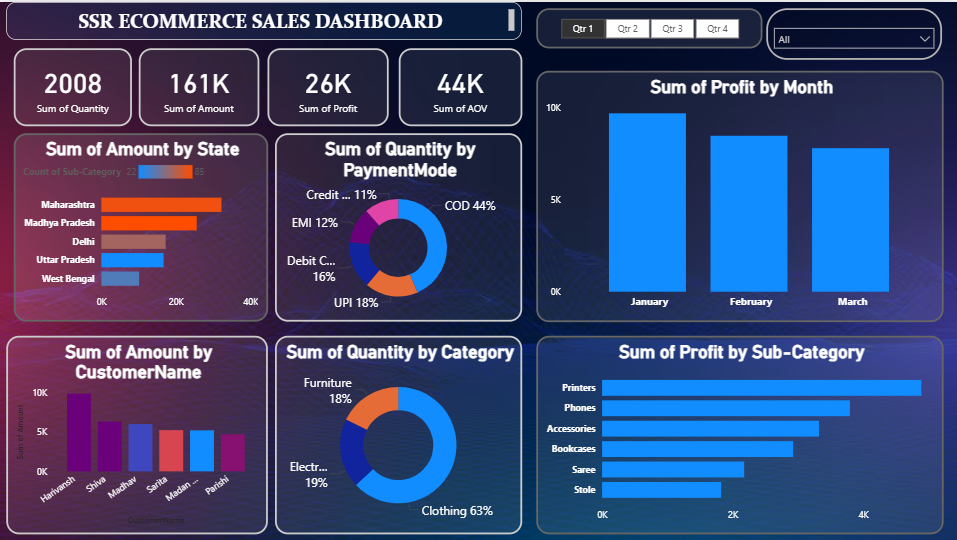

The page's visual inventory and layout, read from the dashboard file:
{"tool":"powerbi","page":{"name":"Page 1","canvas":[1280,720],"ordinal":0},"visuals":[{"type":"textbox","box":[8.2,0,687.5,50.8],"z":0},{"type":"columnChart","fields":{"Y":["Details.Profit"],"Category":["Orders.Order Date.Variation.Date Hierarchy.Month"]},"box":[714.9,91.9,543.4,334.8],"z":1000},{"type":"barChart","fields":{"Category":["Details.Sub-Category"],"Y":["Details.Profit"]},"box":[714.9,444.6,543.4,264.8],"z":2000},{"type":"donutChart","fields":{"Category":["Details.Category"],"Y":["Details.Quantity"]},"box":[366.4,444.6,329.3,264.8],"z":3000},{"type":"donutChart","fields":{"Y":["Details.Quantity"],"Category":["Details.PaymentMode"]},"box":[366.4,175.6,329.3,251.1],"z":4000},{"type":"card","fields":{"Values":["Details.Amount"]},"box":[185.2,61.7,160.5,104.3],"z":5000},{"type":"card","fields":{"Values":["Details.Profit"]},"box":[356.8,61.7,161.9,104.3],"z":6000},{"type":"card","fields":{"Values":["Details.Quantity"]},"box":[17.8,61.7,157.8,104.3],"z":7000},{"type":"card","fields":{"Values":["Details.AOV"]},"box":[531,61.7,164.7,104.3],"z":8000},{"type":"barChart","fields":{"Y":["Details.Amount"],"Category":["Orders.State"]},"box":[17.8,175.6,338.9,251.1],"z":9000},{"type":"columnChart","fields":{"Category":["Orders.CustomerName"],"Y":["Details.Amount"]},"box":[8.2,444.6,348.5,264.8],"z":10000},{"type":"slicer","fields":{"Values":["Orders.Order Date.Variation.Date Hierarchy.Quarter"]},"box":[714.9,8.2,301.9,53.5],"z":11000},{"type":"slicer","fields":{"Values":["Orders.State"]},"box":[1020.9,8.2,234.6,68.6],"z":12000}]}

Visuals, with their boxes in screenshot pixels (x1, y1, x2, y2), scaled from the page's 1280x720 canvas onto the 957x540 screenshot:
textbox: 6,0,520,38
columnChart - Details.Profit x Orders.Order Date.Variation.Date Hierarchy.Month: 534,69,941,320
barChart - Details.Sub-Category x Details.Profit: 534,333,941,532
donutChart - Details.Category x Details.Quantity: 274,333,520,532
donutChart - Details.Quantity x Details.PaymentMode: 274,132,520,320
card - Details.Amount: 138,46,258,124
card - Details.Profit: 267,46,388,124
card - Details.Quantity: 13,46,131,124
card - Details.AOV: 397,46,520,124
barChart - Details.Amount x Orders.State: 13,132,267,320
columnChart - Orders.CustomerName x Details.Amount: 6,333,267,532
slicer - Orders.Order Date.Variation.Date Hierarchy.Quarter: 534,6,760,46
slicer - Orders.State: 763,6,939,58
